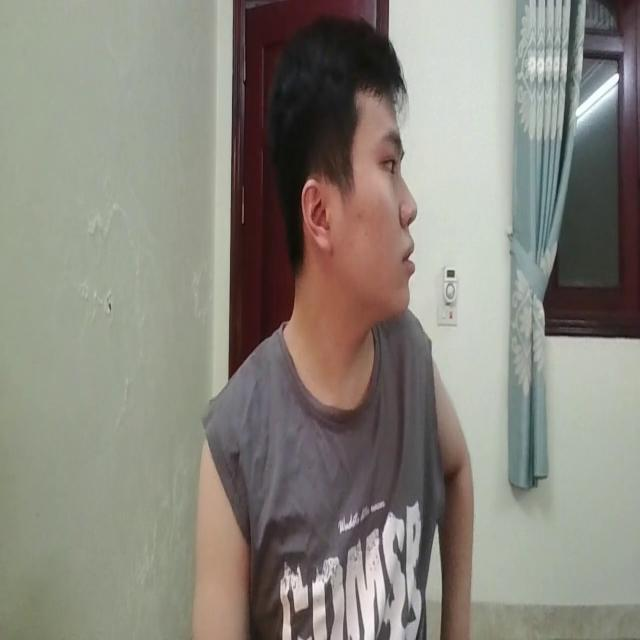student: (170, 15, 482, 640)
